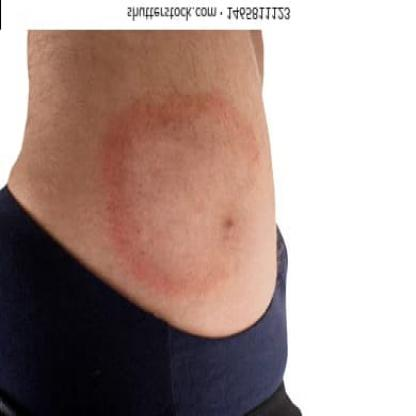Tick: (98, 89, 264, 306)
